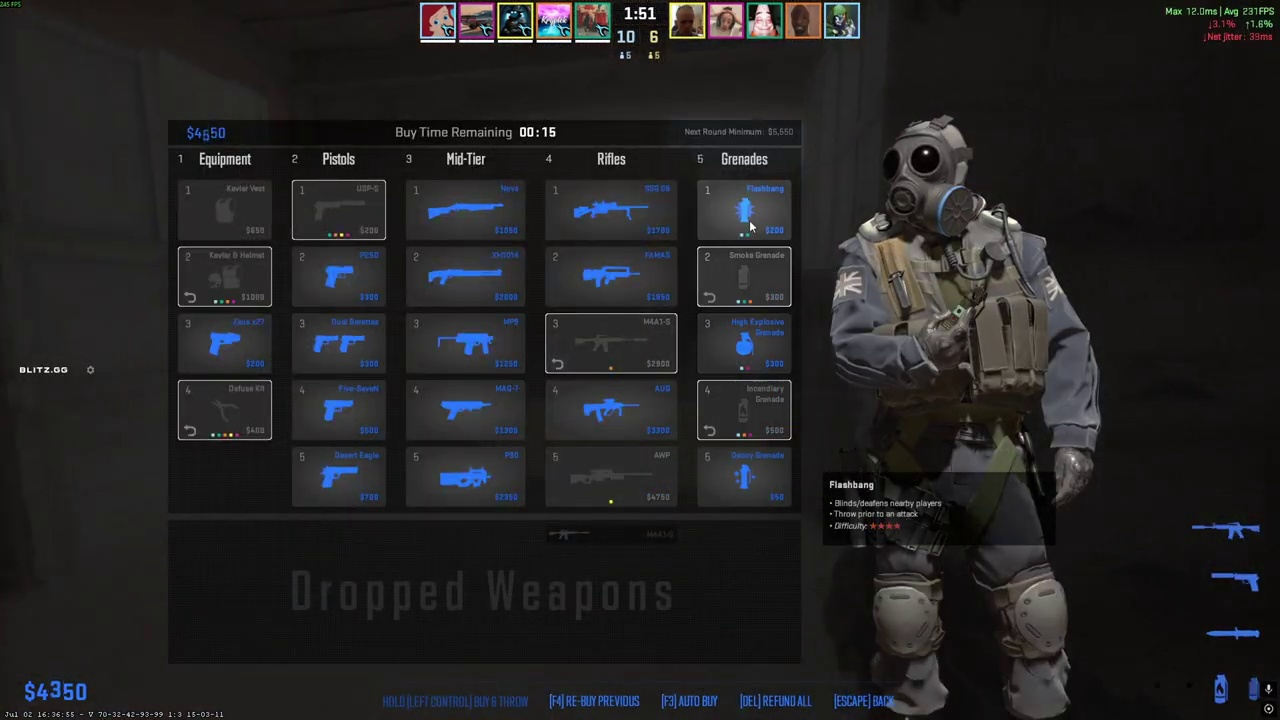CT: (853, 121, 1077, 720)
